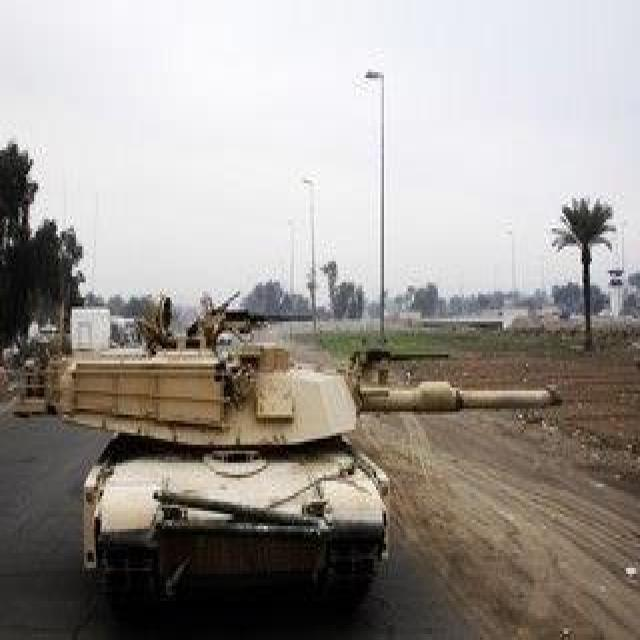Tanks: (20, 294, 564, 595)
